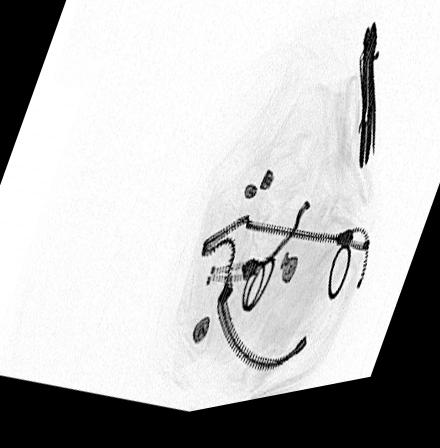Knife: (358, 35, 376, 185)
